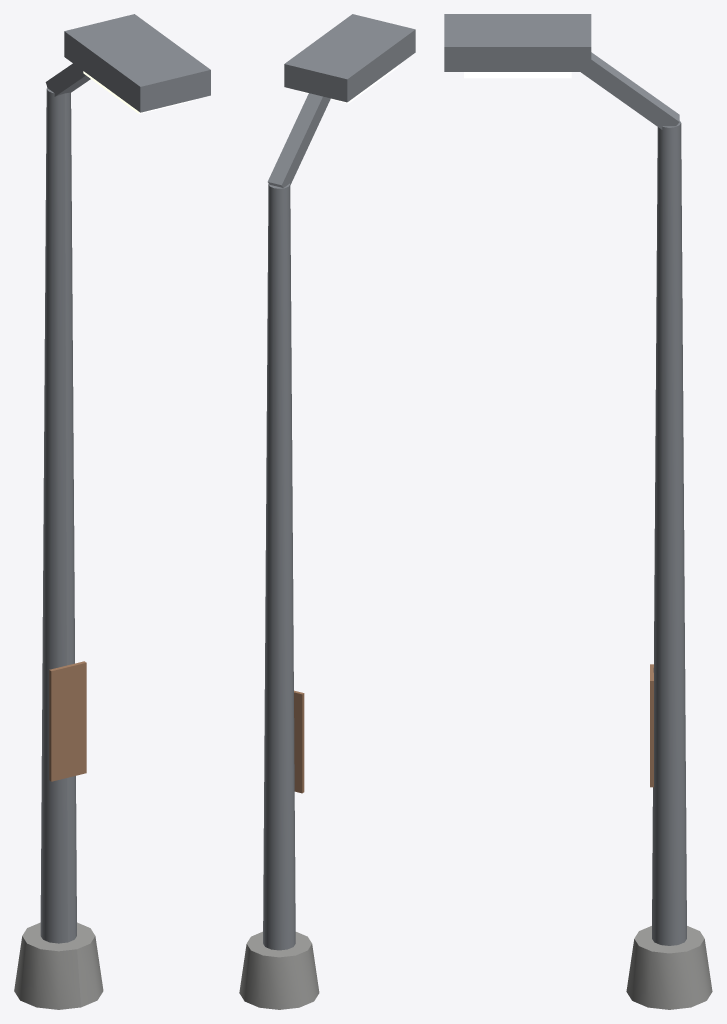
Rendered from prop_streetlamp.glb.
3 renders of one model, left to right at view 1: azimuth 30°, elevation 25°; view 2: azimuth 150°, elevation 25°; view 3: azimuth 270°, elevation 25°, orthographic. The views are drawn at different scales.
Visible parts, largest first — view 1: prop_streetlamp; view 2: prop_streetlamp; view 3: prop_streetlamp.
Part boxes in pixels (left/top/right/bottom): prop_streetlamp: left=14, top=14, right=210, bottom=1009; prop_streetlamp: left=239, top=14, right=415, bottom=1009; prop_streetlamp: left=444, top=14, right=712, bottom=1009.
Size of the model in its own units: 0.44 by 5.42 by 1.37.
